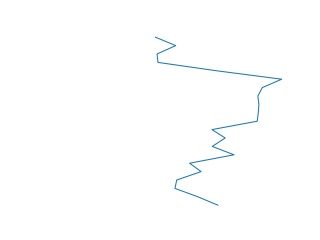floodPlain: (152, 36, 284, 208)
